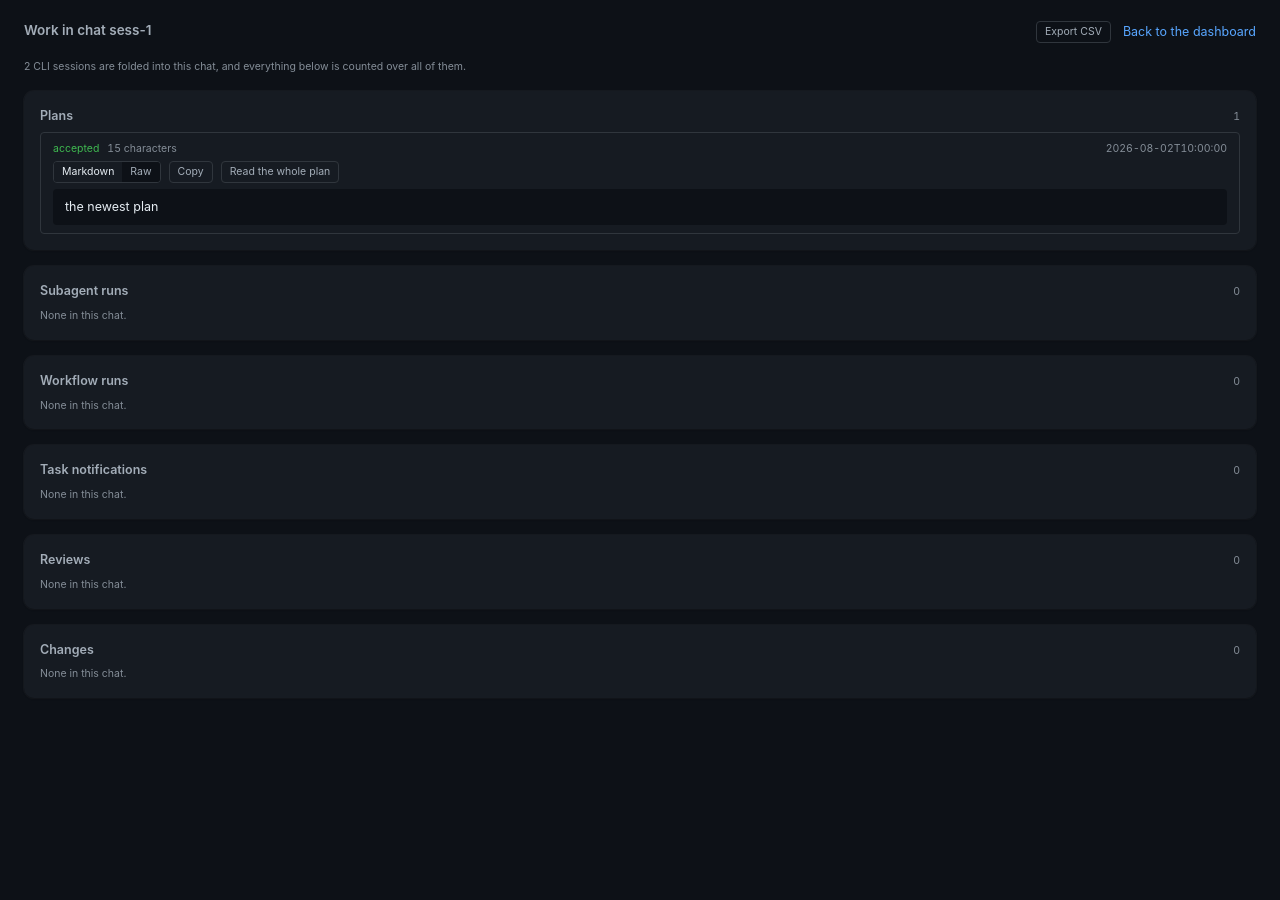
Test: a plan is a document, not its opening › shows the opening until asked, then the whole text
Expected: the text "the newest plan" is shown, [65,199,158,214]
Click the button "Read the whole plan": (280, 172) [221,161,339,183]
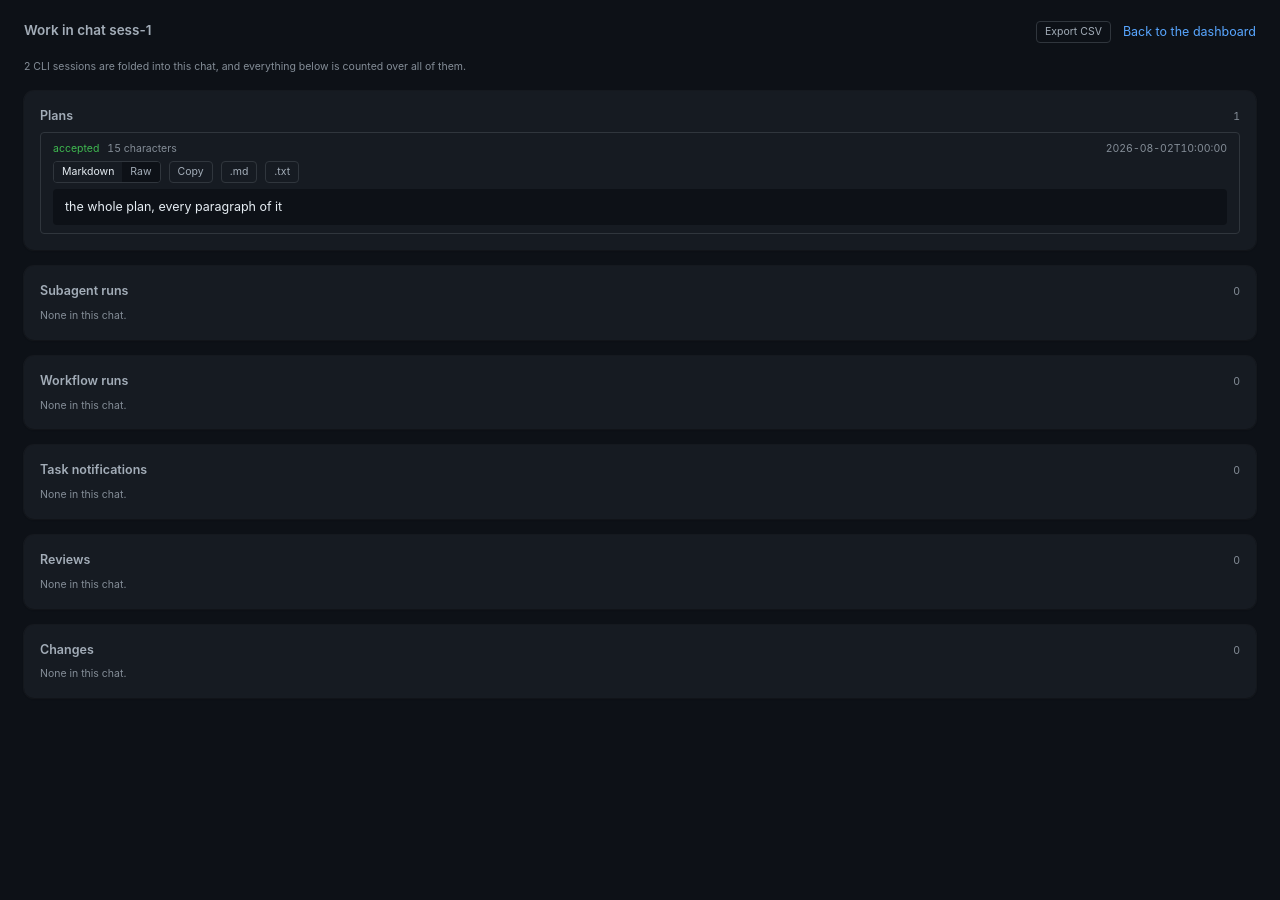
Expected: the text "the whole plan, every paragraph of it" is shown, [65,199,282,214]
Expected: the button "Read the whole plan" is gone
